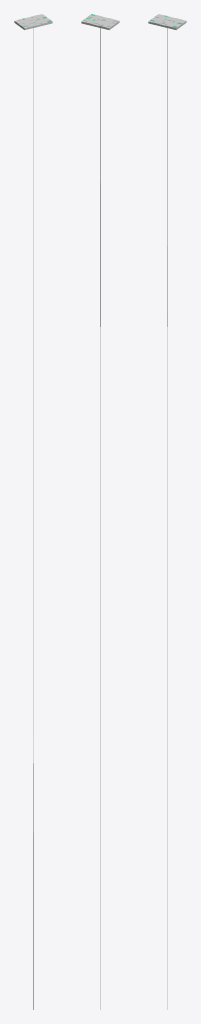
Rendered from floaty09.fbx.
The picture shows the model from 3 angles, left to right: view 1: azimuth 30°, elevation 25°; view 2: azimuth 150°, elevation 25°; view 3: azimuth 330°, elevation 25°; orthographic projection.
Parts seen in each view (by area): view 1: Cylinder.001, Cube; view 2: Cylinder.001, Cube; view 3: Cylinder.001, Cube.
Boxes of the visible parts, box(x1,y1,x2,y2) form: Cylinder.001: box(33, 28, 33, 1009); Cube: box(14, 14, 52, 29); Cylinder.001: box(100, 28, 100, 1009); Cube: box(81, 14, 119, 29); Cylinder.001: box(167, 28, 167, 1009); Cube: box(148, 14, 186, 29).
Size of the model in its own units: 1278 by 43056 by 815.
